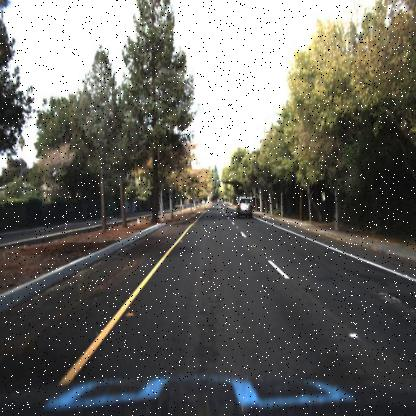car: (235, 195, 254, 219)
